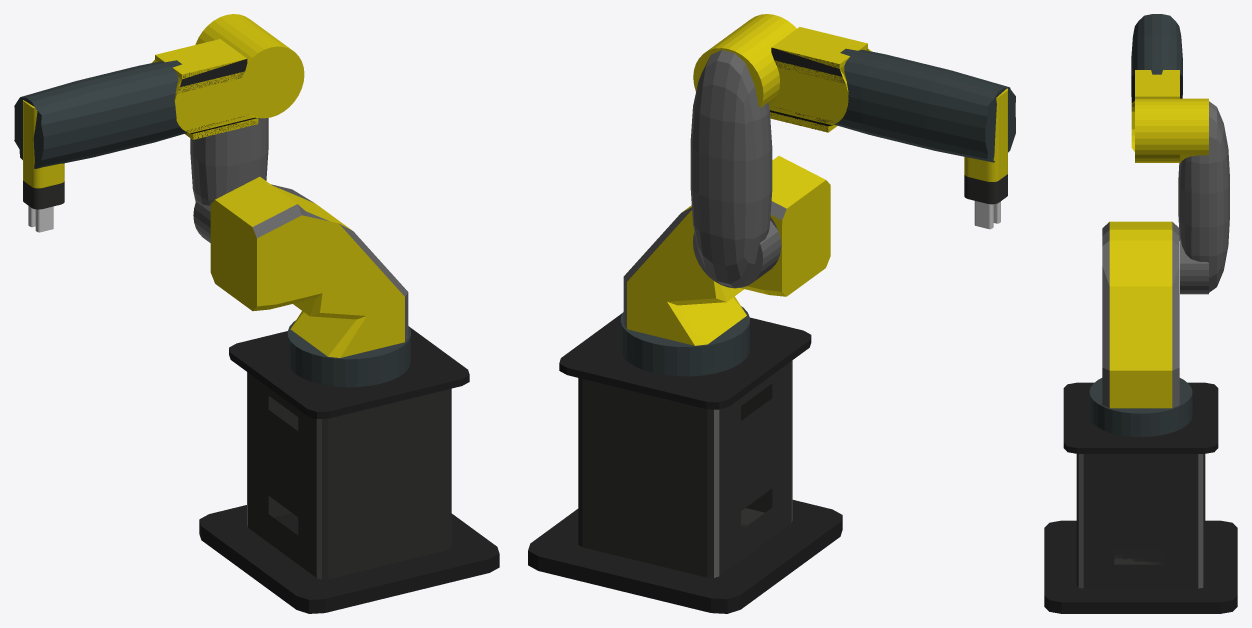
File: manipulator.glb
The picture shows the model from 3 angles, left to right: view 1: azimuth 30°, elevation 25°; view 2: azimuth 150°, elevation 25°; view 3: azimuth 270°, elevation 25°; orthographic projection. The views are drawn at different scales.
Visible parts, largest first — view 1: footing 1, shoulder 1, footing 2, shoulder 3, decorative top haе up, footing 3, shoulder 2, base of the first shoulder, handle; view 2: footing 1, shoulder 1, shoulder 2, footing 2, shoulder 3, decorative top haе up, footing 3, base of the first shoulder, handle, decorative top hat under, arm; view 3: footing 1, shoulder 1, footing 2, shoulder 2, decorative top haе up, footing 3, base of the first shoulder, shoulder 3, decorative top hat under.
Part boxes in pixels (<box>): footing 1: <box>247,372,451,579</box>; shoulder 1: <box>210,176,408,357</box>; footing 2: <box>199,505,499,613</box>; shoulder 3: <box>14,60,187,168</box>; decorative top haе up: <box>152,14,304,139</box>; footing 3: <box>229,326,469,418</box>; shoulder 2: <box>190,118,268,205</box>; base of the first shoulder: <box>287,320,410,387</box>; handle: <box>23,100,64,209</box>; footing 1: <box>578,360,792,577</box>; shoulder 1: <box>623,156,830,345</box>; shoulder 2: <box>690,50,772,287</box>; footing 2: <box>528,500,842,613</box>; shoulder 3: <box>834,48,1015,162</box>; decorative top haе up: <box>693,14,871,132</box>; footing 3: <box>559,313,811,409</box>; base of the first shoulder: <box>620,306,749,376</box>; handle: <box>964,88,1007,204</box>; decorative top hat under: <box>693,217,781,288</box>; arm: <box>974,201,1000,229</box>; footing 1: <box>1076,454,1205,588</box>; shoulder 1: <box>1102,221,1179,408</box>; footing 2: <box>1044,520,1237,613</box>; shoulder 2: <box>1178,101,1229,292</box>; decorative top haе up: <box>1131,70,1208,162</box>; footing 3: <box>1063,382,1218,453</box>; base of the first shoulder: <box>1089,378,1192,436</box>; shoulder 3: <box>1131,14,1182,96</box>; decorative top hat under: <box>1180,239,1208,294</box>.
Bounding box in the file's own units: 6.16 × 7.5 × 3.
